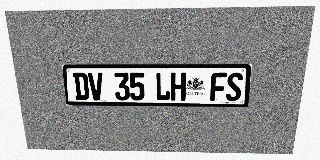3: (114, 73, 130, 100)
5: (129, 73, 145, 100)
D: (73, 73, 89, 100)
F: (210, 73, 227, 101)
H: (171, 73, 186, 101)
L: (155, 73, 170, 101)
S: (225, 73, 243, 101)
V: (88, 73, 104, 100)
